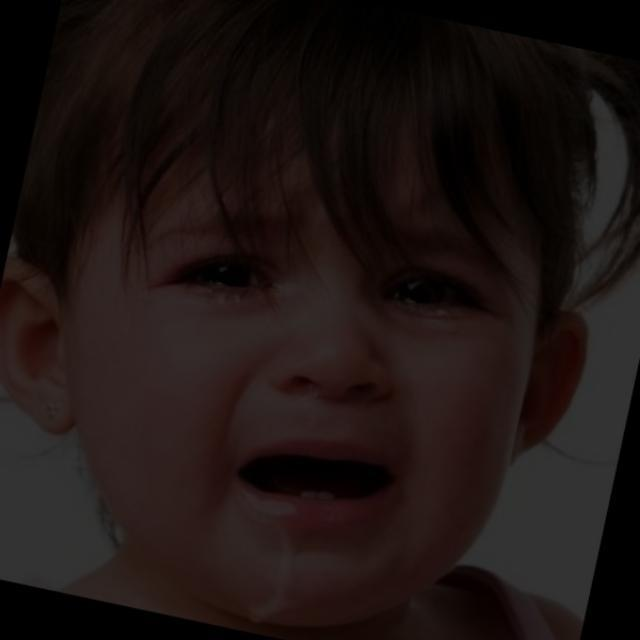Sad: (97, 125, 525, 579)
